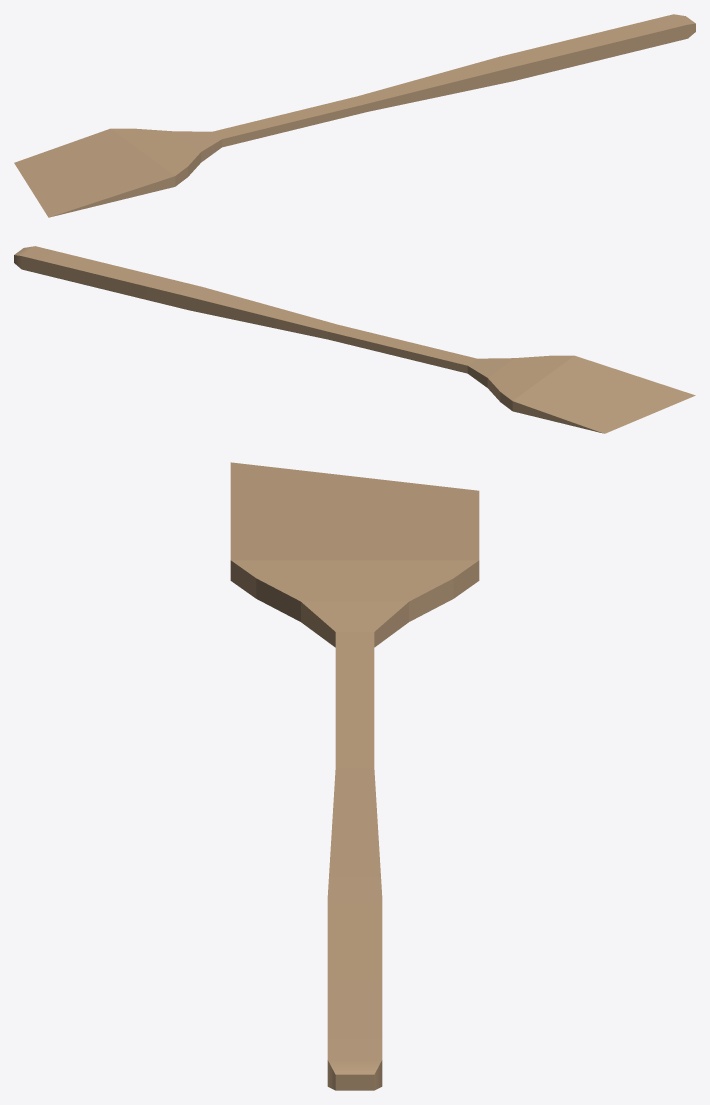
Rendered from spatula.fbx.
The picture shows the model from 3 angles, top to bottom: view 1: azimuth 30°, elevation 25°; view 2: azimuth 150°, elevation 25°; view 3: azimuth 270°, elevation 25°; orthographic projection. The views are drawn at different scales.
Visible parts, largest first — view 1: spatula; view 2: spatula; view 3: spatula.
Boxes of the visible parts, box(x1,y1,x2,y2) form: spatula: box(14, 14, 695, 217); spatula: box(14, 246, 695, 433); spatula: box(230, 462, 479, 1090).
Size of the model in its own units: 5.03 by 0.1 by 0.8376.
